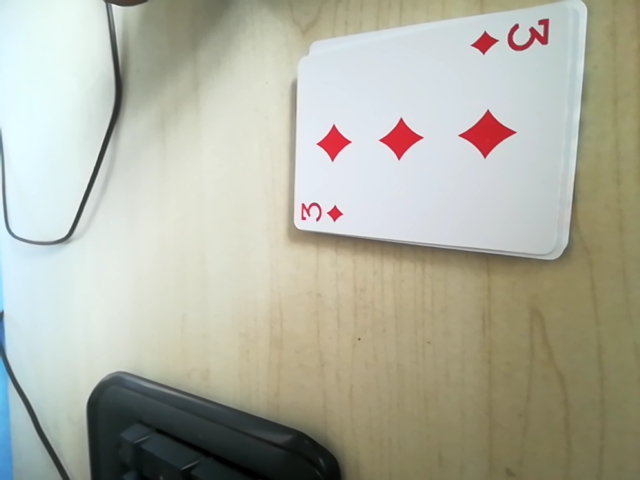fk 3: (471, 12, 553, 64), (292, 192, 348, 229)
